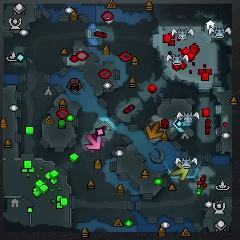x1: (85, 134, 101, 150)
x2: (171, 163, 190, 179)
x3: (174, 117, 193, 132)
x5: (145, 122, 162, 140)
